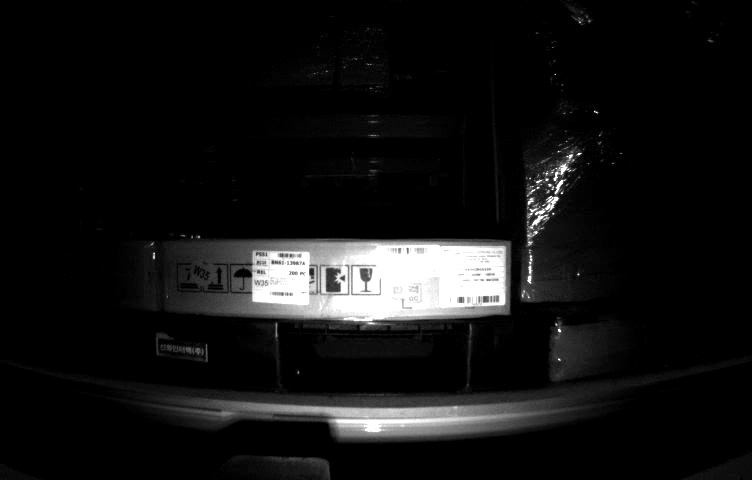True Barcode: (251, 246, 310, 304)
